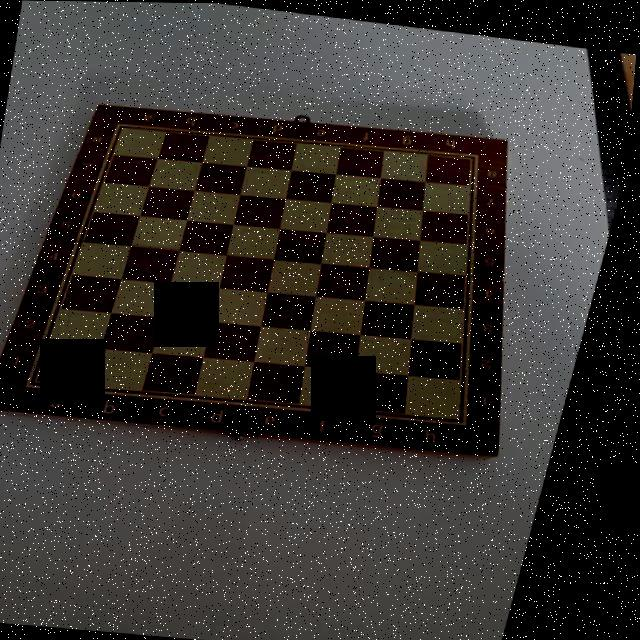chess-table-corners: (461, 404, 495, 429), (30, 372, 62, 394), (463, 141, 493, 162), (110, 114, 138, 134)
